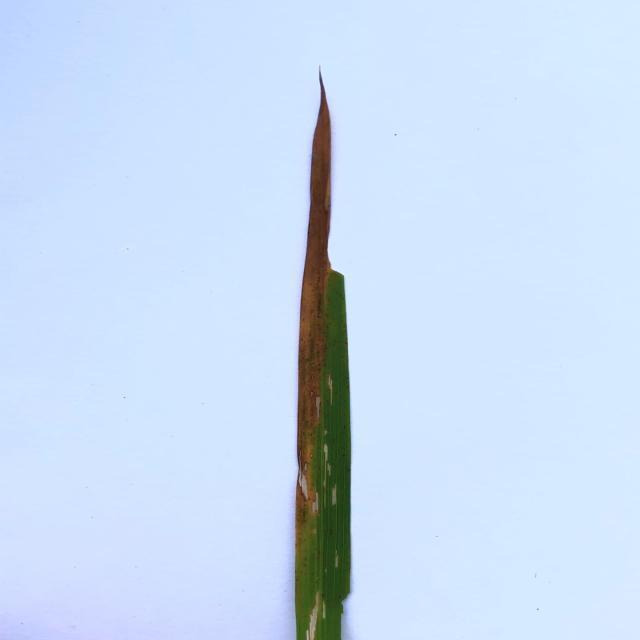Rice Tungro: (280, 63, 358, 640)
